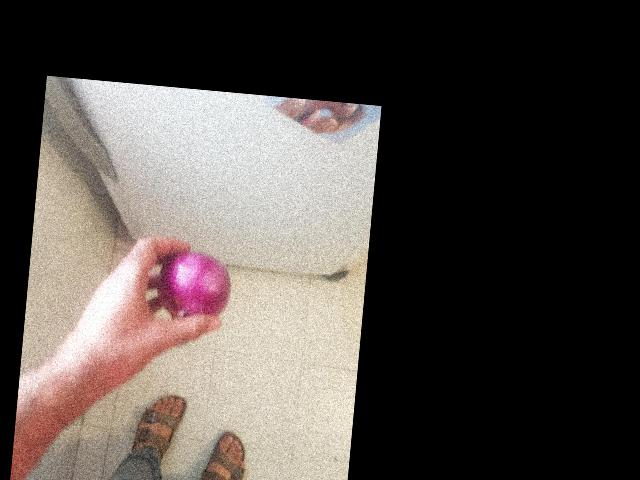onion: (155, 247, 233, 320)
